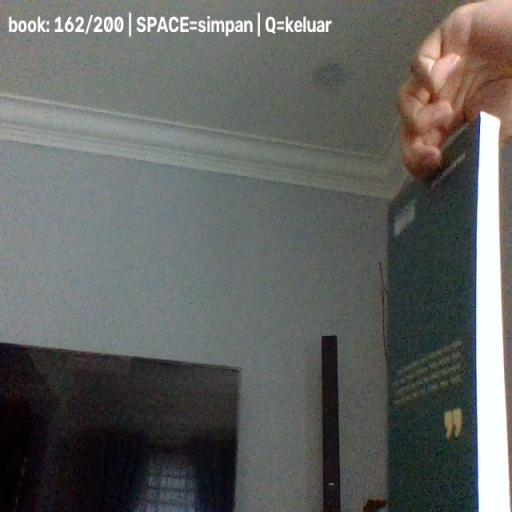Book: (386, 114, 510, 512)
